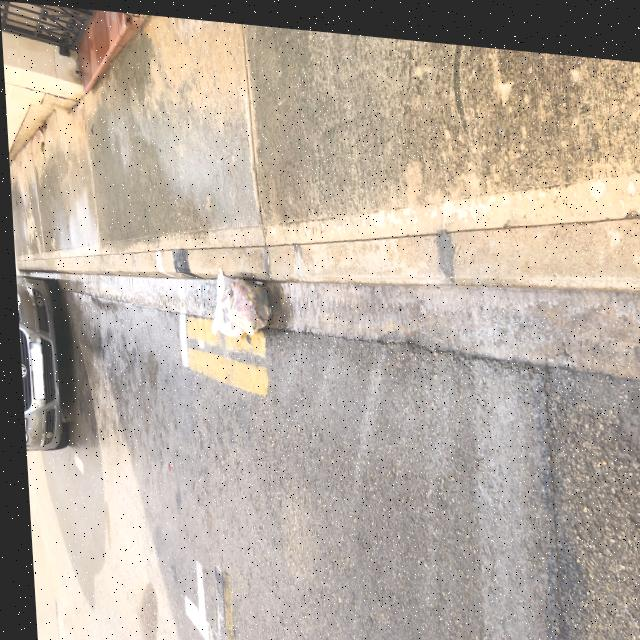Organic Waste -White Bag-: (203, 265, 273, 335)
